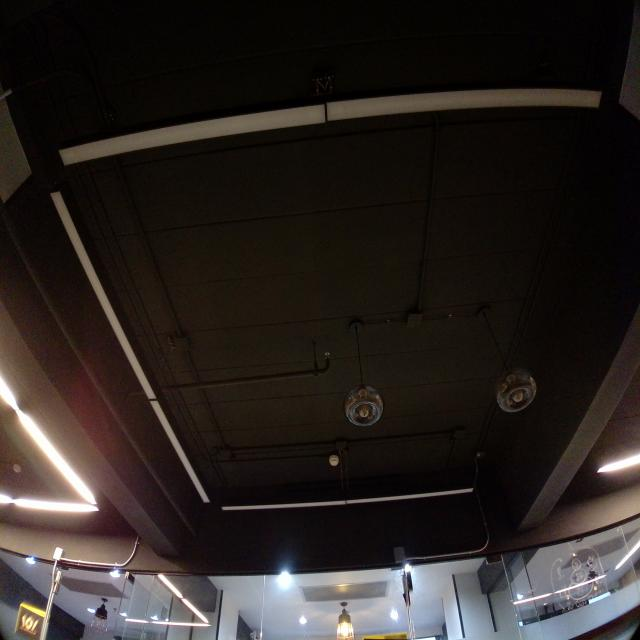lamp2_off: (42, 183, 218, 510), (50, 84, 610, 175), (221, 482, 482, 516)
